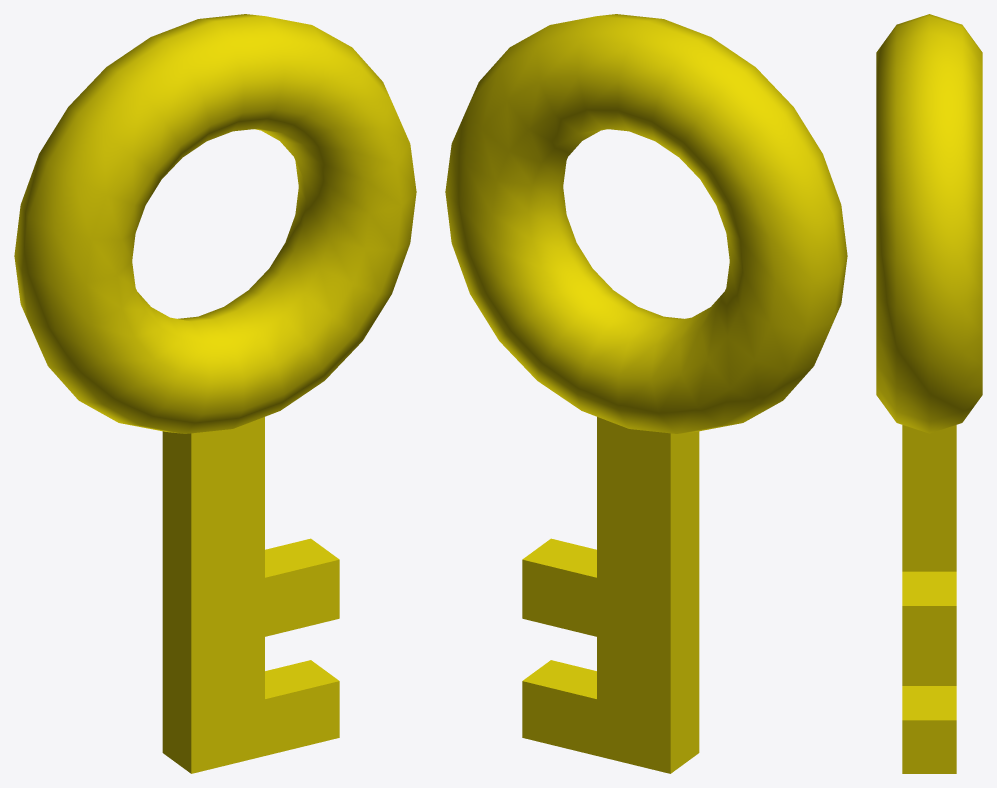
Rendered from Key.fbx.
3 views of the same model, side by side, from view 1: azimuth 30°, elevation 25°; view 2: azimuth 150°, elevation 25°; view 3: azimuth 270°, elevation 25° (orthographic). The views are drawn at different scales.
Parts seen in each view (by area): view 1: Key; view 2: Key; view 3: Key.
Boxes of the visible parts, x1,y1,x2,y2 form: Key: (14,14,416,773); Key: (445,14,847,773); Key: (876,14,982,773).
Size of the model in its own units: 0.4898 by 0.886 by 0.1236.
